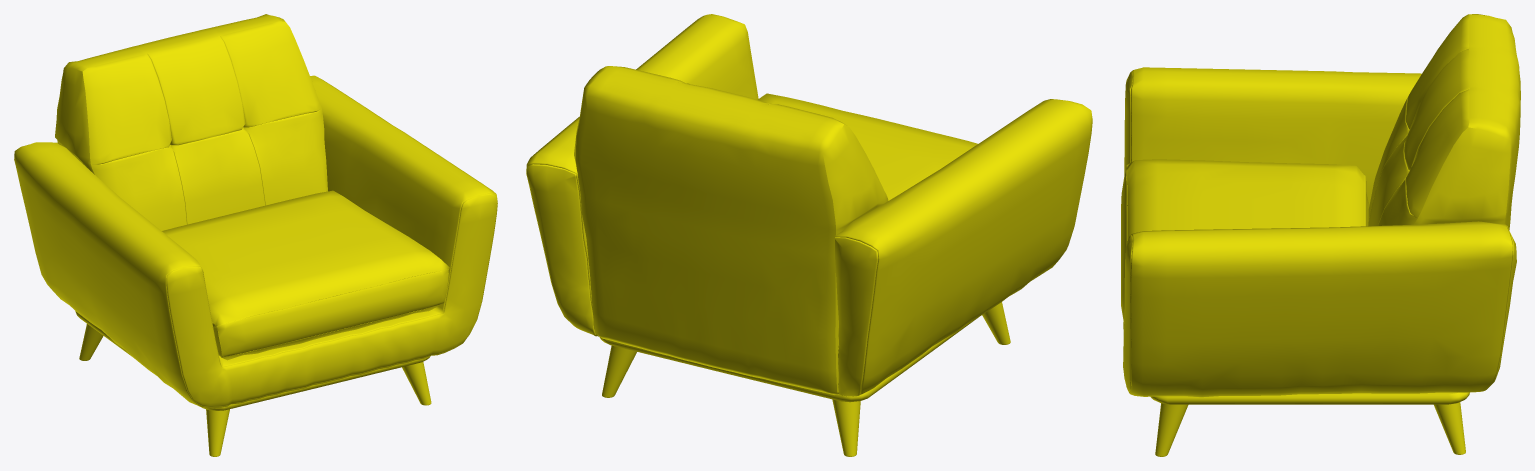
The model's file is SofaSet_Gen_3_Armchair.fbx.
3 views of the same model, side by side, from view 1: azimuth 30°, elevation 25°; view 2: azimuth 150°, elevation 25°; view 3: azimuth 270°, elevation 25° (orthographic). The views are drawn at different scales.
Parts seen in each view (by area): view 1: mesh_arm_chair; view 2: mesh_arm_chair; view 3: mesh_arm_chair.
Boxes of the visible parts, x1,y1,x2,y2 form: mesh_arm_chair: (14,14,497,456); mesh_arm_chair: (526,14,1092,456); mesh_arm_chair: (1121,14,1520,456).
Bounding box in the file's own units: 108 × 87.01 × 96.7.
